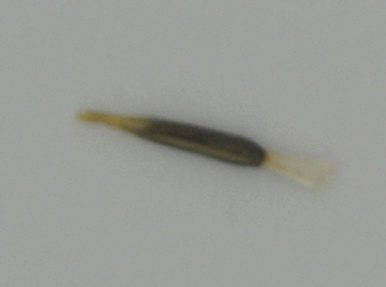เมล็ดงอกแตก: (77, 108, 336, 189)
